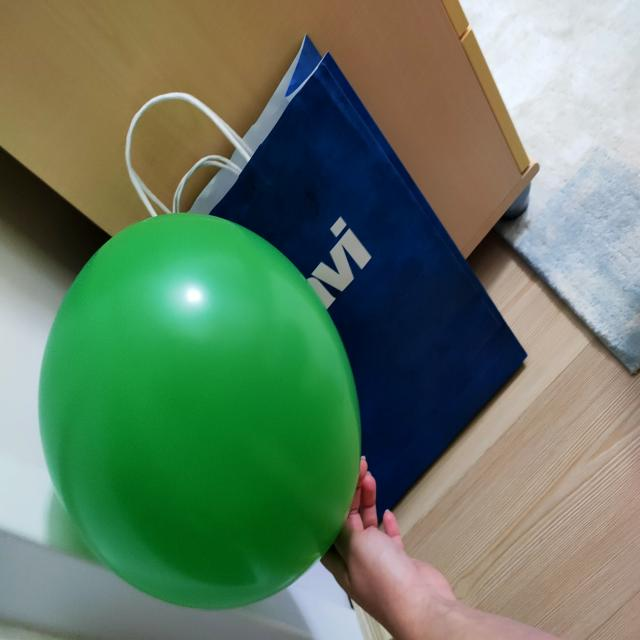green: (43, 214, 363, 613)
